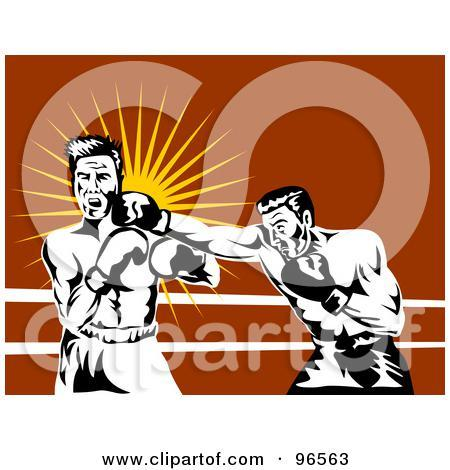person: (111, 185, 416, 393), (34, 132, 221, 395)
